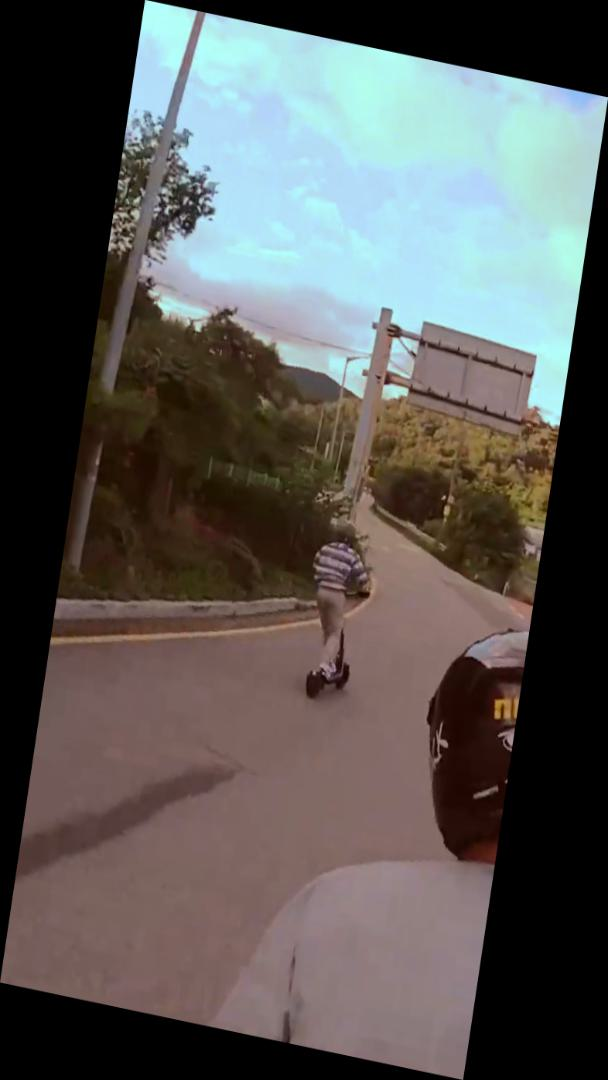helmet: (290, 513, 379, 709)
